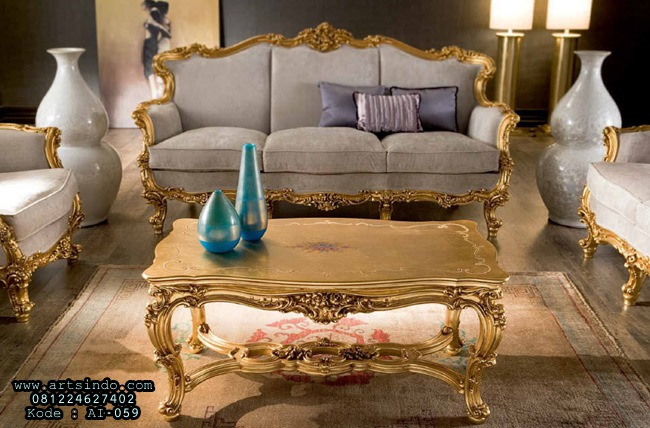Carving Table: (142, 210, 515, 424)
